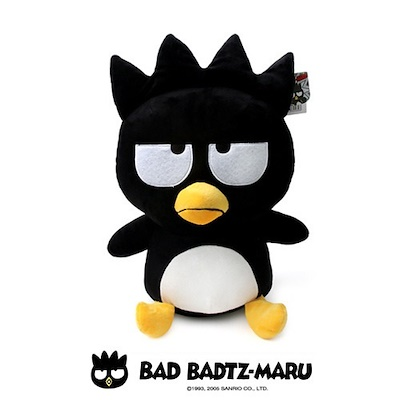batsumaru: (107, 32, 311, 343)
